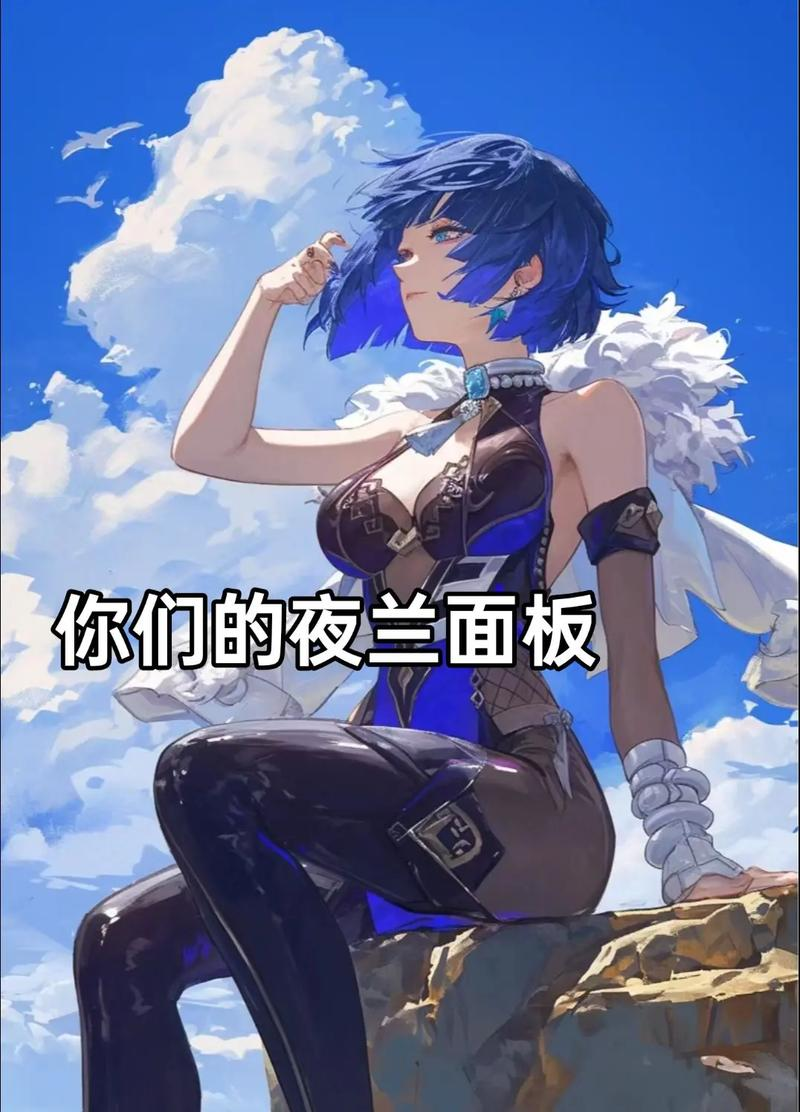夜兰: (63, 119, 796, 1106)
